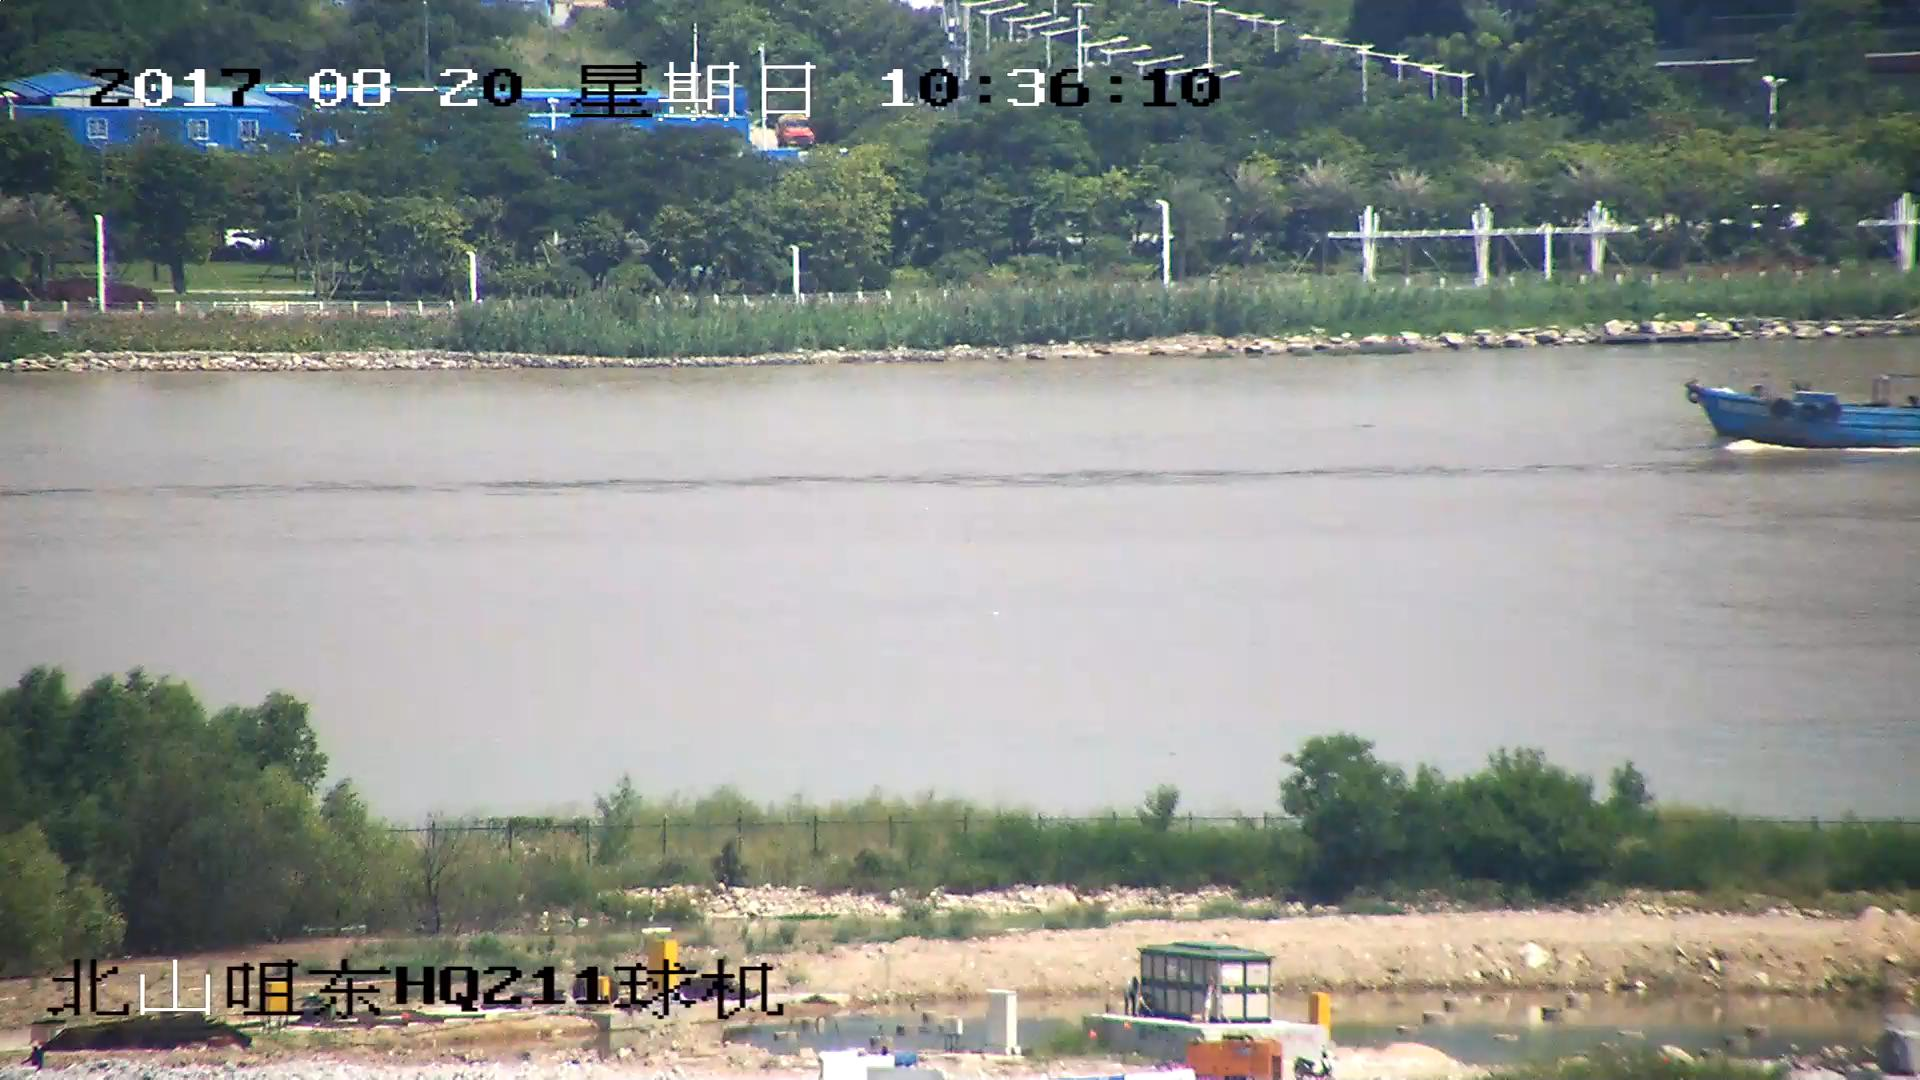fishing boat: (1693, 371, 1920, 451)
